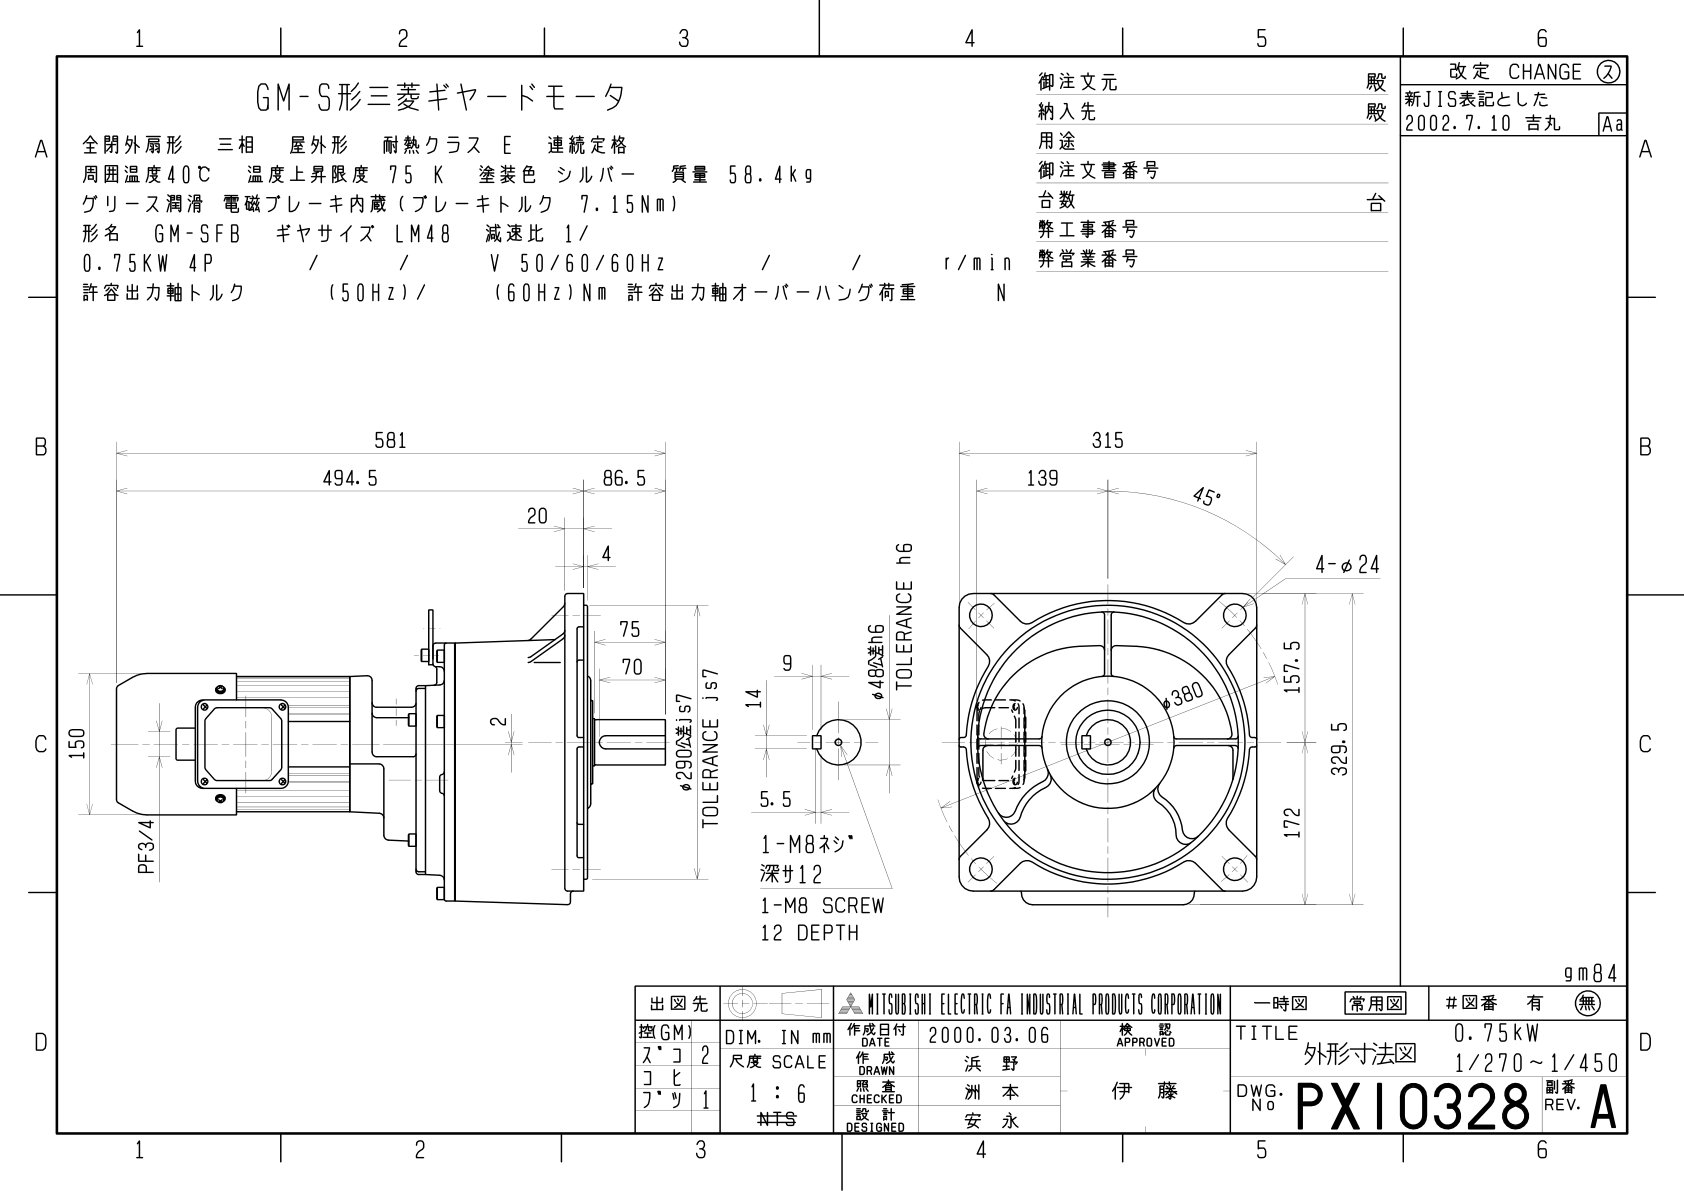GM_S_屋外＿三相_フランジ: (58, 402, 1389, 962)
